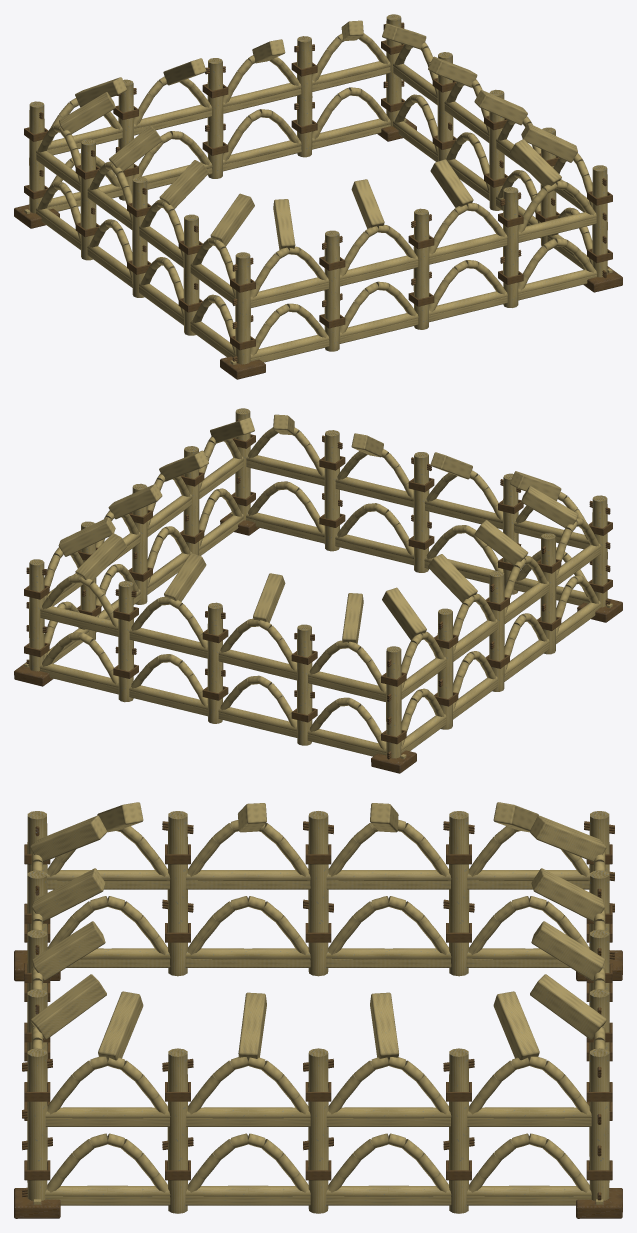
3 views of the same model, one above another, from view 1: azimuth 30°, elevation 25°; view 2: azimuth 150°, elevation 25°; view 3: azimuth 270°, elevation 25° (orthographic). The views are drawn at different scales.
Visible parts, largest first — view 1: Tier 0 side 0 post 3, Tier 0 side 2 post 1, Tier 0 side 0 post 2, Tier 0 side 2 post 2, Tier 0 side 0 post 1, Tier 0 side 0 post 0, Tier 0 side 1 post 0, Tier 0 side 3 post 3, Tier 0 side 3 post 2, Tier 0 side 3 post 1, Tier 0 side 3 post 0, Crown petal 0-3 (+47 smaller); view 2: Tier 0 side 2 post 1, Tier 0 side 0 post 3, Tier 0 side 0 post 2, Tier 0 side 2 post 2, Tier 0 side 2 post 3, Tier 0 side 3 post 0, Tier 0 side 2 post 0, Tier 0 side 3 post 2, Tier 0 side 3 post 1, Tier 0 side 3 post 3, Tier 0 side 0 post 0, Crown petal 3-3 (+48 smaller); view 3: Tier 0 side 1 post 2, Tier 0 side 3 post 2, Tier 0 side 1 post 3, Tier 0 side 3 post 1, Tier 0 side 1 post 1, Tier 0 side 3 post 3, Tier 0 side 1 post 0, Tier 0 side 2 post 0, Crown petal 2-0, Crown petal 0-3, Crown petal 2-1, Crown petal 0-2 (+54 smaller).
Boxes of the visible parts, box(x1,y1,x2,y2) form: Tier 0 side 0 post 3: box(503, 187, 518, 307); Tier 0 side 2 post 1: box(297, 36, 312, 157); Tier 0 side 0 post 2: box(413, 208, 429, 329); Tier 0 side 2 post 2: box(207, 58, 223, 178); Tier 0 side 0 post 1: box(324, 230, 339, 351); Tier 0 side 0 post 0: box(235, 252, 250, 364); Tier 0 side 1 post 0: box(592, 165, 607, 277); Tier 0 side 3 post 3: box(183, 214, 199, 335); Tier 0 side 3 post 2: box(132, 177, 147, 297); Tier 0 side 3 post 1: box(80, 139, 96, 260); Tier 0 side 3 post 0: box(29, 101, 44, 213); Crown petal 0-3: box(510, 139, 561, 186); Tier 0 side 2 post 1: box(118, 581, 133, 702); Tier 0 side 0 post 3: box(324, 430, 339, 551); Tier 0 side 0 post 2: box(413, 452, 429, 572); Tier 0 side 2 post 2: box(207, 602, 223, 723); Tier 0 side 2 post 3: box(297, 624, 312, 745); Tier 0 side 3 post 0: box(386, 646, 401, 758); Tier 0 side 2 post 0: box(29, 559, 44, 671); Tier 0 side 3 post 2: box(489, 571, 504, 691); Tier 0 side 3 post 1: box(437, 608, 453, 729); Tier 0 side 3 post 3: box(540, 533, 556, 654); Tier 0 side 0 post 0: box(592, 495, 607, 607); Crown petal 3-3: box(521, 486, 578, 527); Tier 0 side 1 post 2: box(308, 1048, 328, 1213); Tier 0 side 3 post 2: box(308, 811, 328, 976); Tier 0 side 1 post 3: box(449, 1048, 469, 1213); Tier 0 side 3 post 1: box(449, 811, 469, 976); Tier 0 side 1 post 1: box(167, 1048, 187, 1213); Tier 0 side 3 post 3: box(167, 811, 187, 976); Tier 0 side 1 post 0: box(27, 1048, 47, 1200); Tier 0 side 2 post 0: box(589, 1048, 609, 1200); Crown petal 2-0: box(530, 974, 606, 1039); Crown petal 0-3: box(30, 974, 106, 1039); Crown petal 2-1: box(531, 921, 605, 980); Crown petal 0-2: box(32, 921, 105, 980).
Bounding box in the file's own units: 1.95 × 0.6802 × 1.95.
2 materials, 2 textured.
